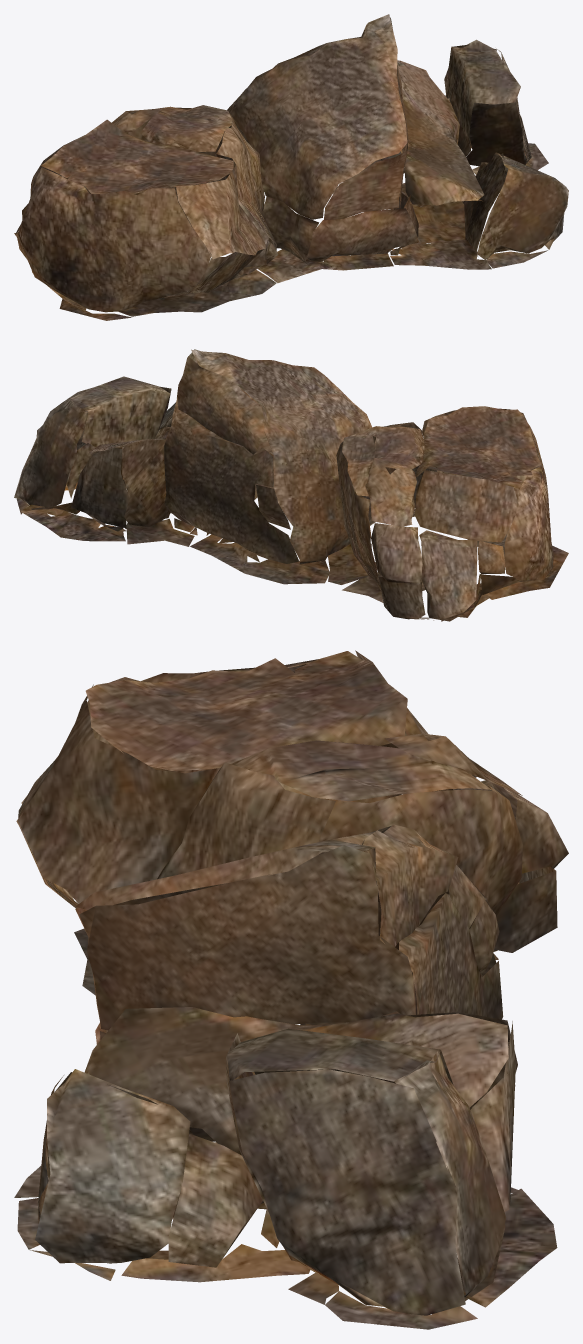
File: boulder_02.glb
3 renders of one model, top to bottom at view 1: azimuth 30°, elevation 25°; view 2: azimuth 150°, elevation 25°; view 3: azimuth 270°, elevation 25°, orthographic. The views are drawn at different scales.
Visible parts, largest first — view 1: boulder_02; view 2: boulder_02; view 3: boulder_02.
Part boxes in pixels (box(x1,y1,x2,y2)): boulder_02: box(14, 14, 568, 320); boulder_02: box(14, 349, 568, 621); boulder_02: box(14, 650, 568, 1329).
Bounding box in the file's own units: 3.14 × 1.1 × 1.54.
Materials: 1 (1 with a texture image).
